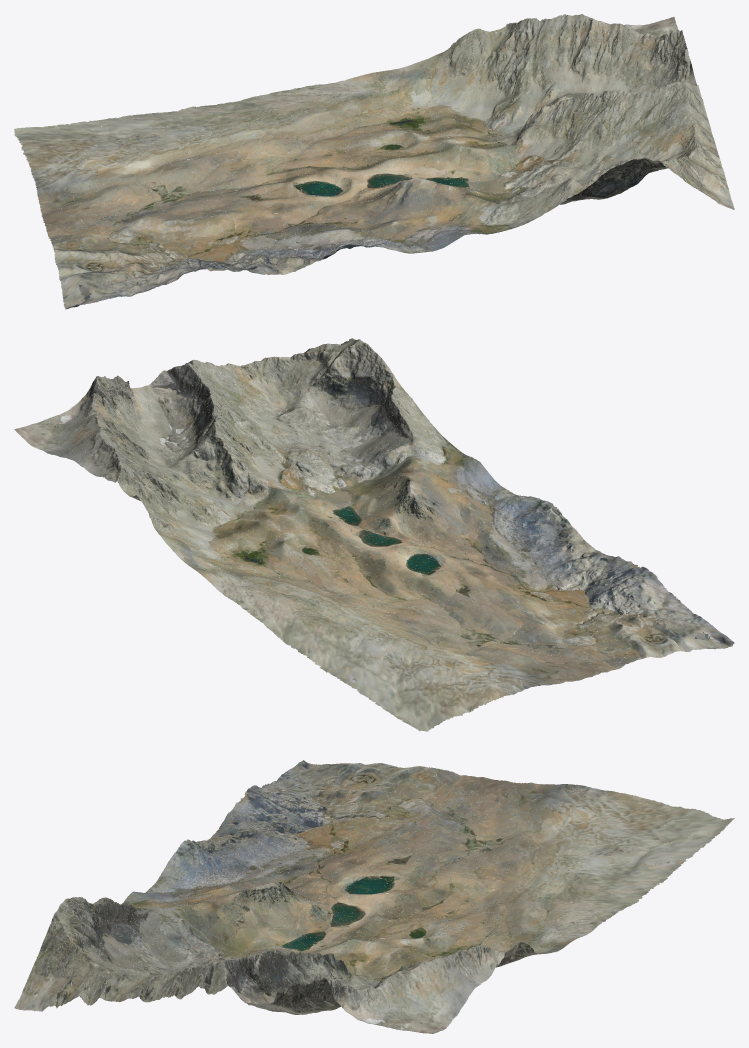
3 renders of one model, top to bottom at view 1: azimuth 30°, elevation 25°; view 2: azimuth 150°, elevation 25°; view 3: azimuth 270°, elevation 25°, orthographic. The views are drawn at different scales.
Visible parts, largest first — view 1: buzul; view 2: buzul; view 3: buzul.
Part boxes in pixels (x1,y1,x2,y2): buzul: (14,14,734,309); buzul: (14,338,734,731); buzul: (14,760,734,1033).
Bounding box in the file's own units: 3571 × 628 × 2855.
Materials: 47 (47 with a texture image).
